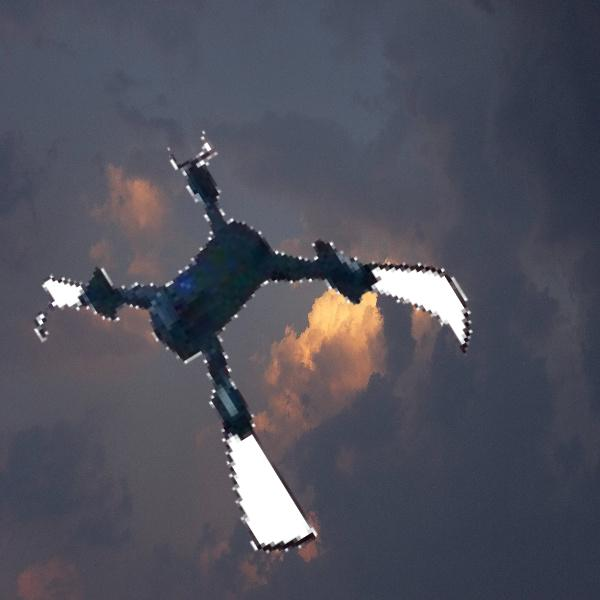drone: (56, 118, 482, 544)
